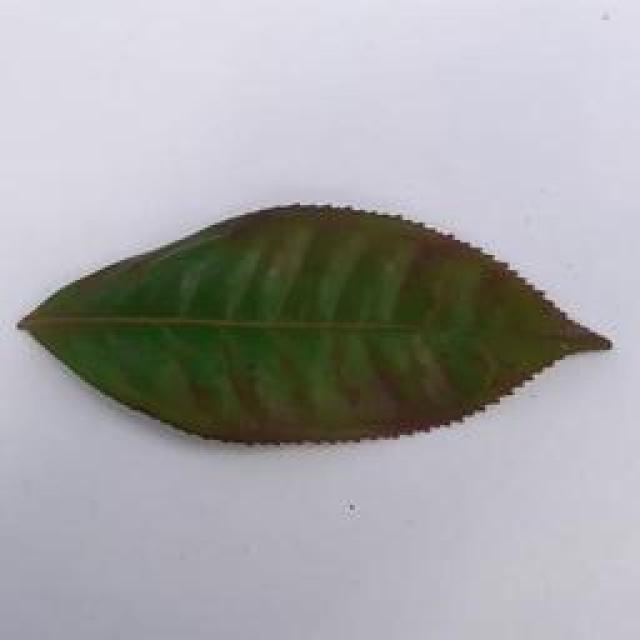Red Leaf Spot: (10, 185, 628, 450)
